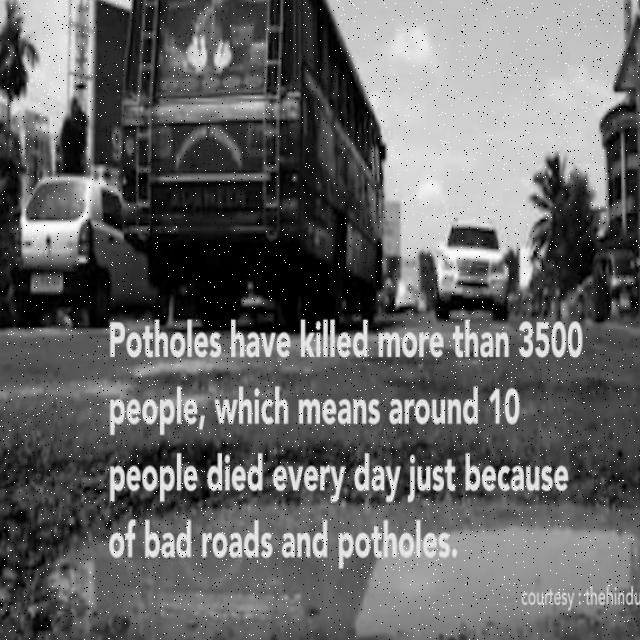pothole: (58, 447, 640, 640)
